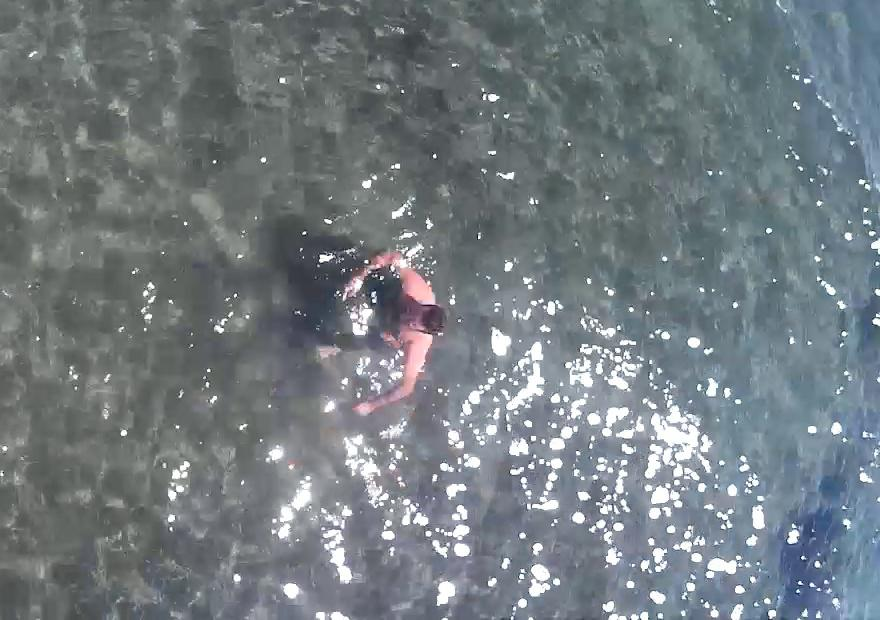human: (306, 224, 449, 432)
